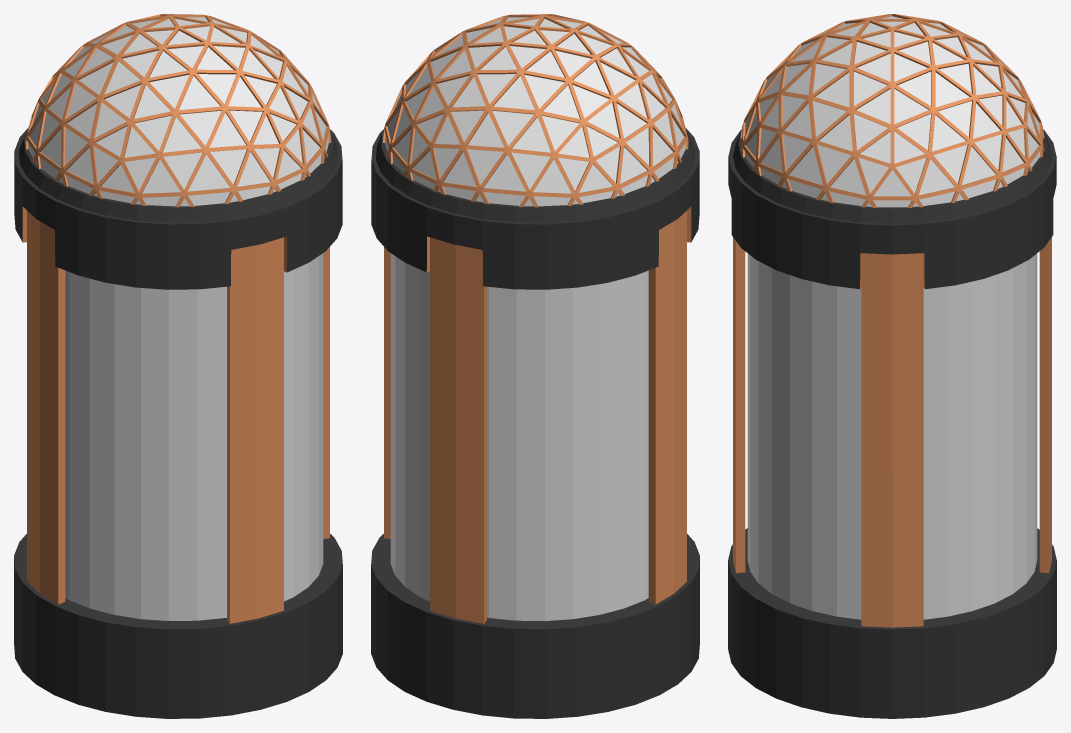
The model's file is BatteryCoil_01.fbx.
3 views of the same model, side by side, from view 1: azimuth 30°, elevation 25°; view 2: azimuth 150°, elevation 25°; view 3: azimuth 270°, elevation 25° (orthographic).
Parts seen in each view (by area): view 1: Glas, Sehll, Icosphere, Battery_LOD0; view 2: Glas, Sehll, Icosphere, Battery_LOD0; view 3: Glas, Sehll, Icosphere, Battery_LOD0.
Part boxes in pixels (x1=…): Glas: x1=65, y1=253, x2=323, y2=620; Sehll: x1=14, y1=127, x2=342, y2=623; Icosphere: x1=25, y1=14, x2=331, y2=207; Battery_LOD0: x1=14, y1=534, x2=342, y2=718; Glas: x1=390, y1=253, x2=648, y2=620; Sehll: x1=371, y1=127, x2=699, y2=623; Icosphere: x1=382, y1=14, x2=688, y2=207; Battery_LOD0: x1=371, y1=534, x2=699, y2=718; Glas: x1=747, y1=253, x2=1037, y2=619; Sehll: x1=728, y1=129, x2=1056, y2=627; Icosphere: x1=740, y1=14, x2=1044, y2=207; Battery_LOD0: x1=728, y1=528, x2=1056, y2=718.
Size of what is drawn, in the model's own units: 206 by 429 by 206.
